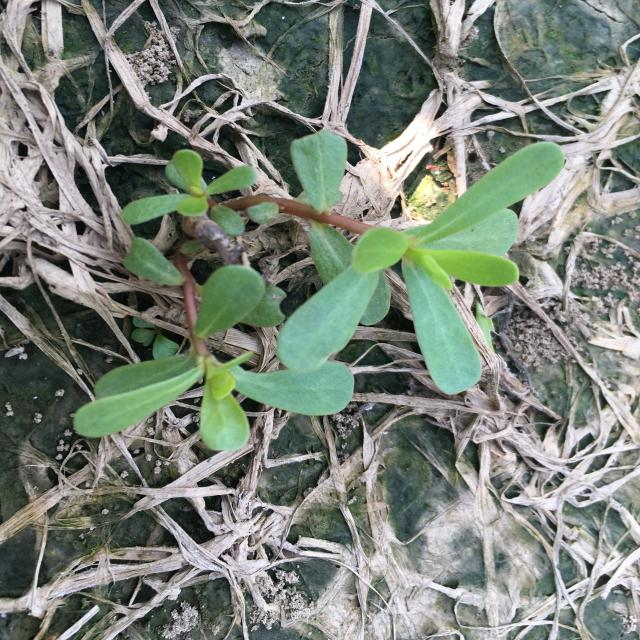Purslane: (72, 129, 564, 452)
